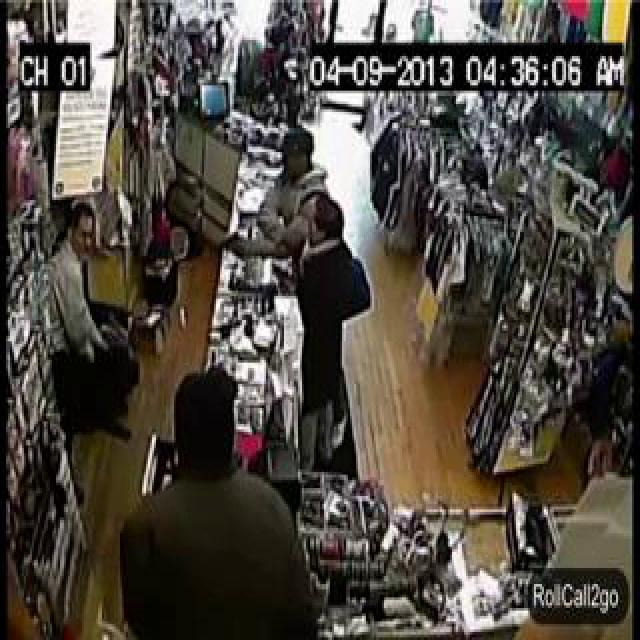robbery: (210, 30, 458, 598)
